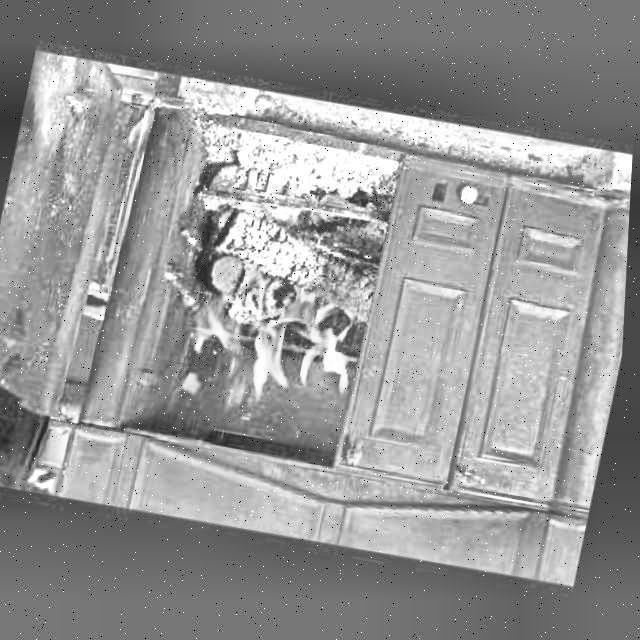Fire: (168, 261, 369, 430)
